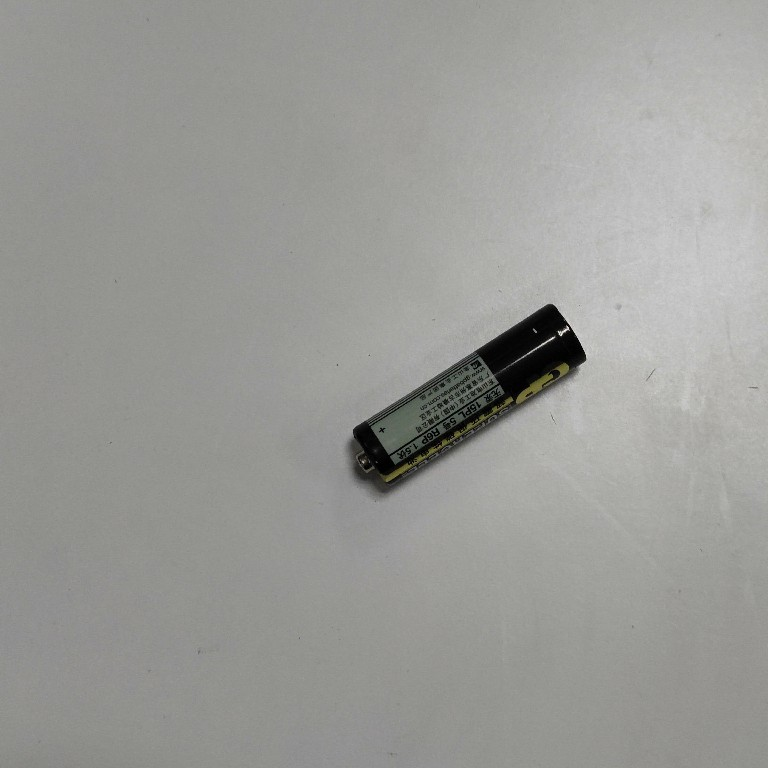charge: (346, 300, 591, 490)
